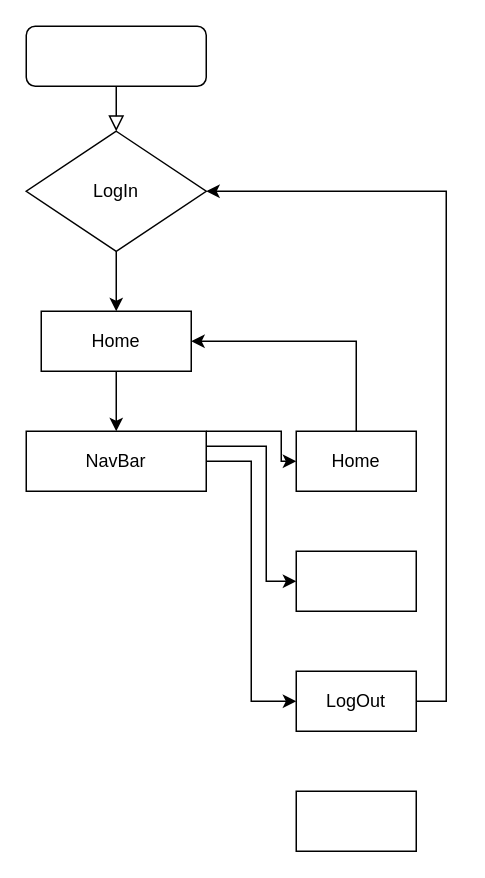
The diagram is 485 pixels wide and 878 high, and some of its shapes have lost their labels. Each missing label, with the box of its shape:
About Us: (295, 550, 416, 611)
Ingrear al sitio web: (25, 25, 206, 86)
